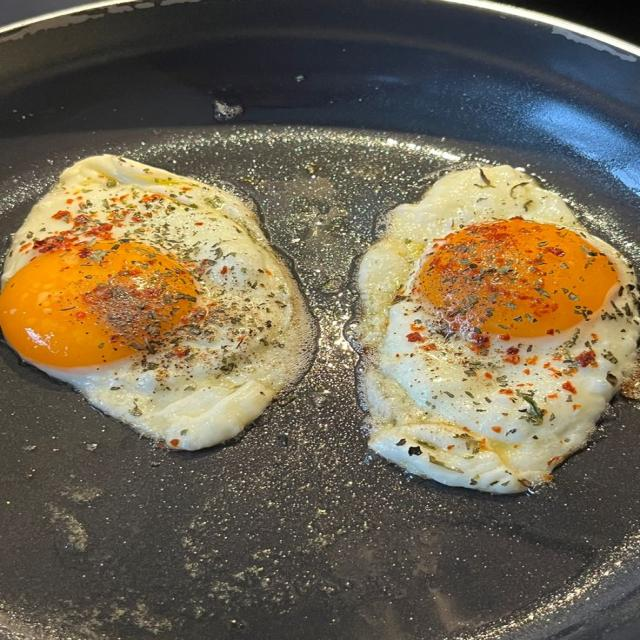fryed egg: (0, 156, 313, 449), (359, 166, 639, 493)
